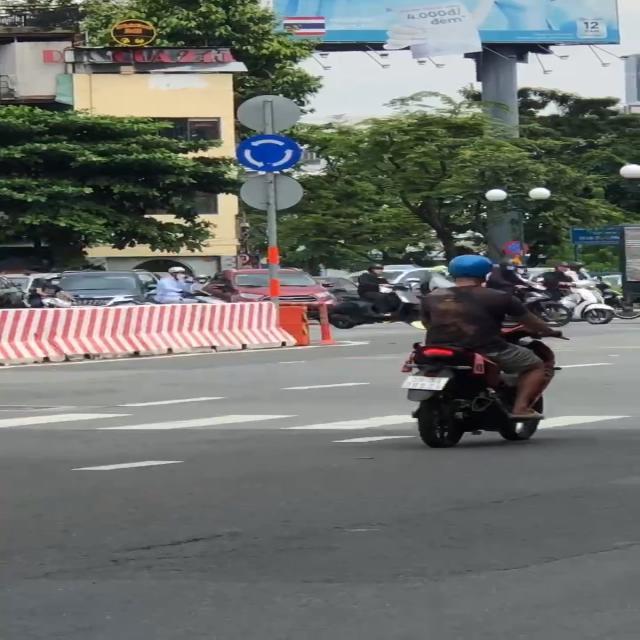Bien bao noi giao nhau chay theo vong xuyen: (234, 133, 306, 172)
